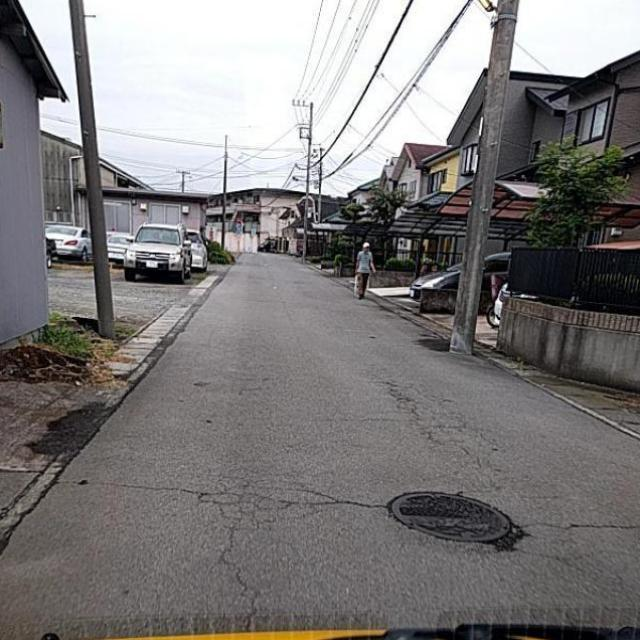Lubang: (389, 490, 525, 546)
